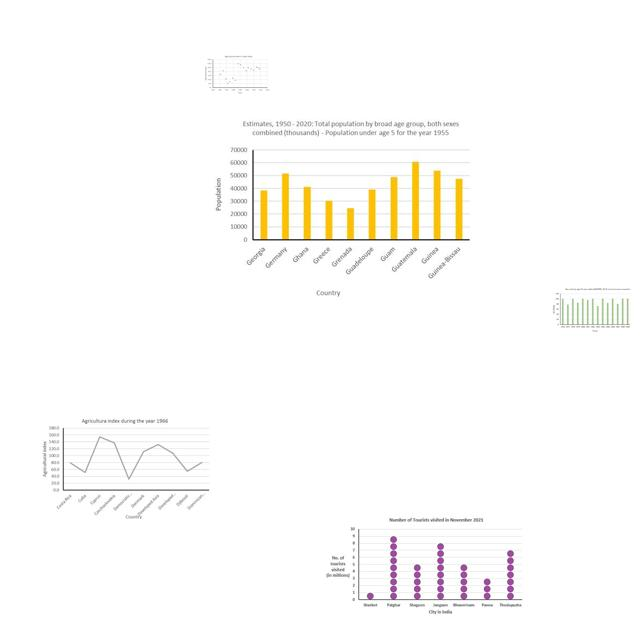Graph: (209, 119, 481, 300), (324, 516, 523, 617), (39, 416, 212, 519), (551, 285, 632, 333), (203, 54, 270, 94)
